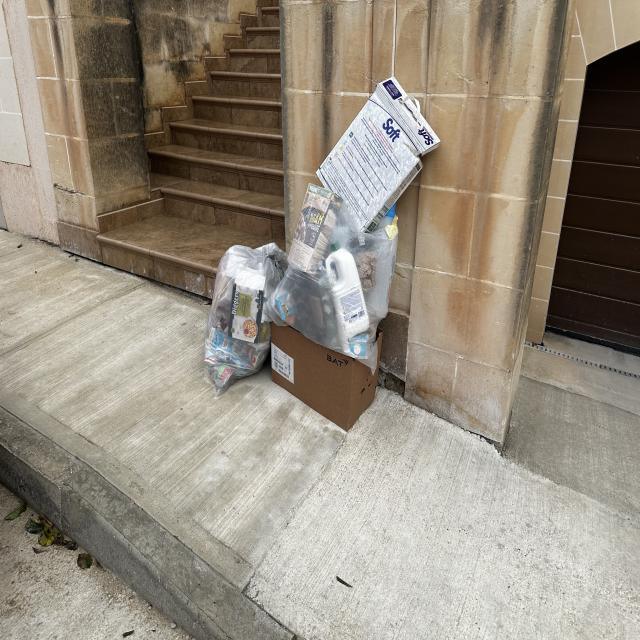Others Waste: (315, 76, 440, 233), (271, 319, 383, 432)
Recyclable Material -Grey Bags-: (204, 183, 399, 397)
